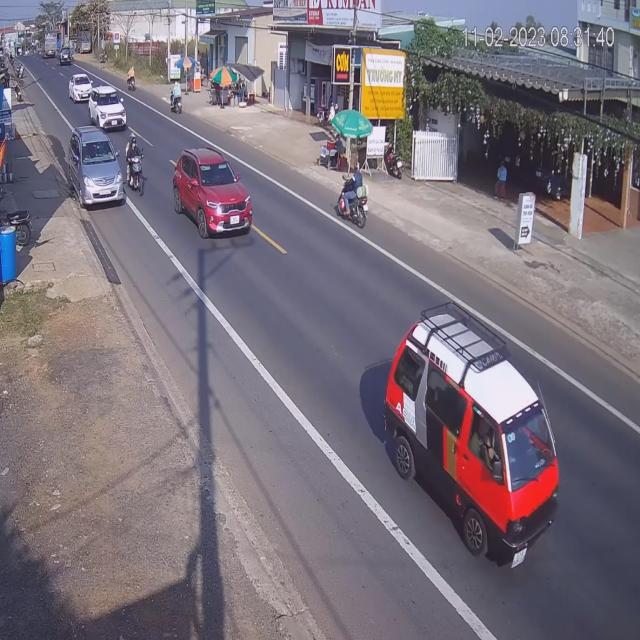car: (383, 309, 559, 573), (173, 148, 253, 240), (68, 125, 124, 207), (89, 86, 128, 132), (69, 73, 92, 105), (59, 49, 71, 68)
motorbike: (336, 171, 369, 230), (126, 133, 146, 197), (169, 83, 183, 115), (128, 66, 137, 94)
